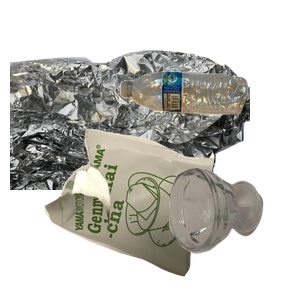glass: (166, 165, 300, 300)
metal: (10, 47, 250, 227)
plastic: (118, 69, 300, 176)
trash: (42, 126, 249, 300)
